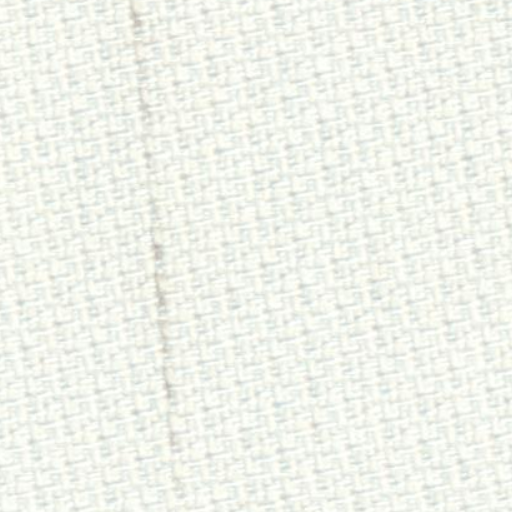WuZi: (121, 6, 196, 494)
